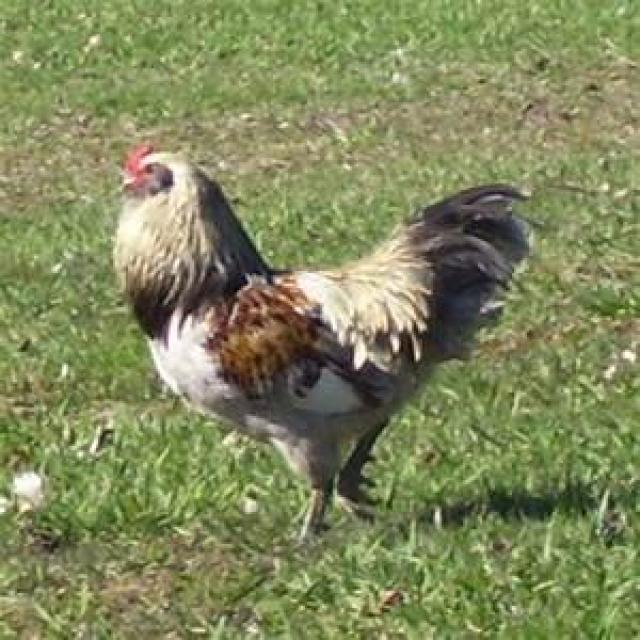hen: (111, 143, 533, 540)
